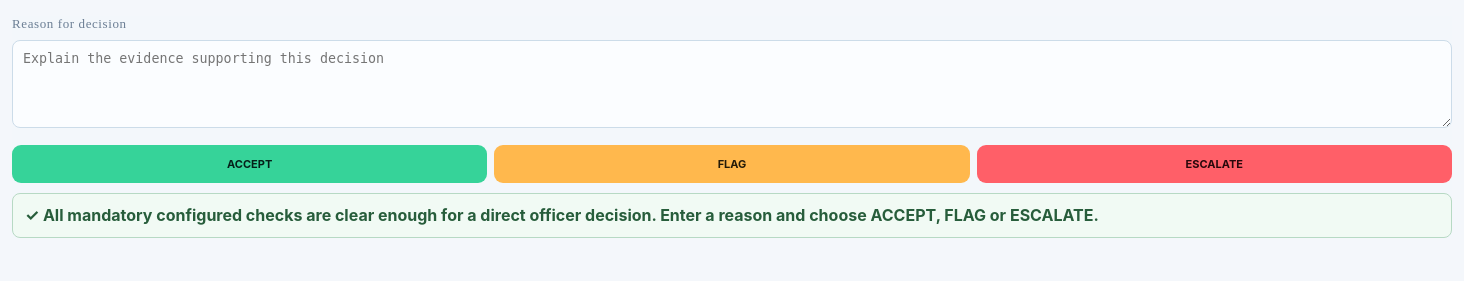
Test case: ordinary clean acceptance sends a reason and records only after server success
This screenshot has width=1464, height=281.
Click the button "ACCEPT".
click(250, 164)  # box [12,145,487,183]
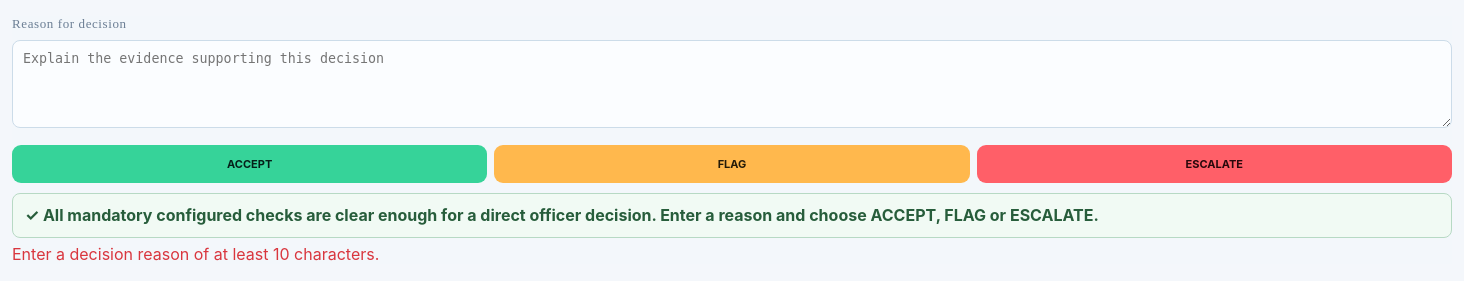
Now the message "Enter a decision reason of at least 10 characters." is shown, box [12,244,379,264]
Type "Checked original document." into the text box labelled "Reason for decision".
click(732, 84); type("Checked original document.")  # box [12,40,1452,128]
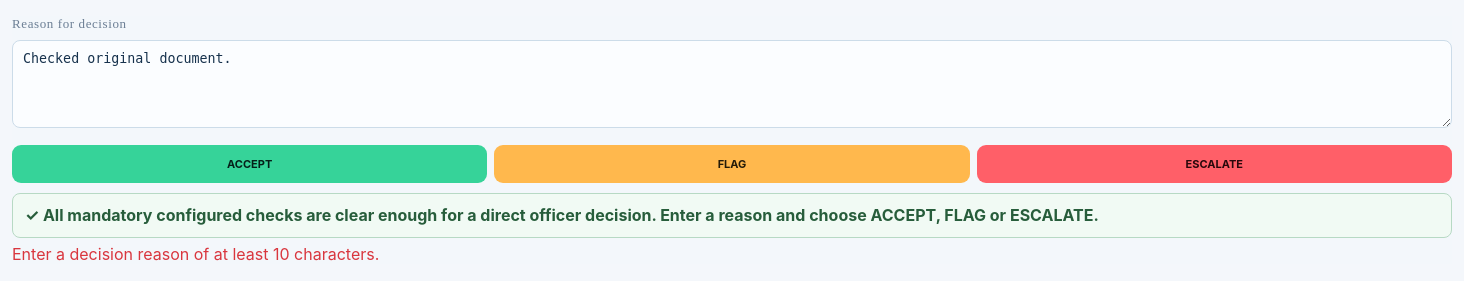
Click the button "ACCEPT".
click(250, 164)  # box [12,145,487,183]
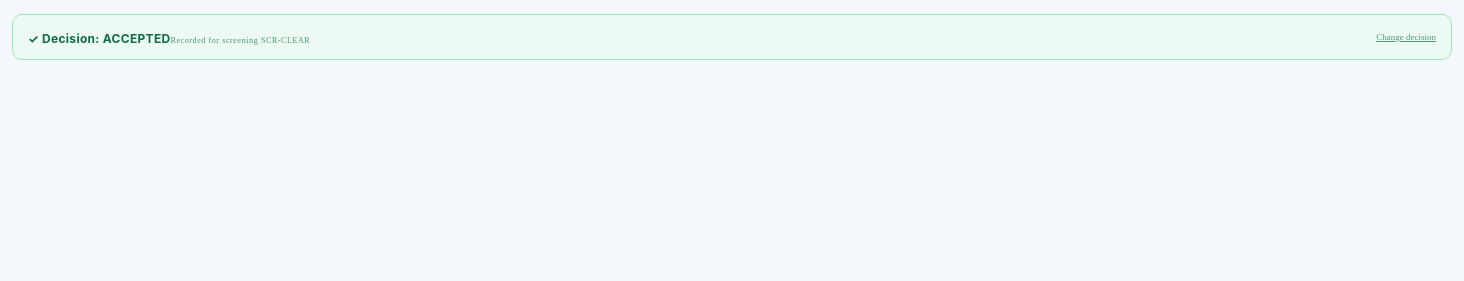
Now the text "✓ Decision: ACCEPTED" is shown, box [28,31,170,46]
